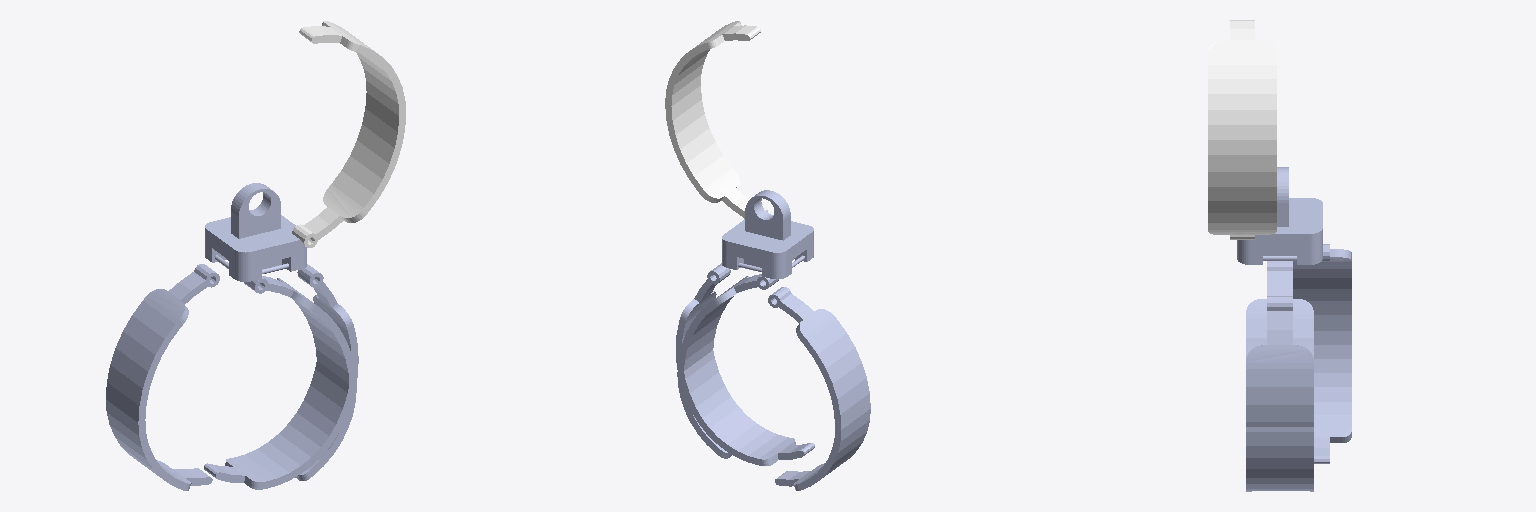
URDF robot description (scoop_claw):
<?xml version="1.0" encoding="utf-8"?>
<!-- This URDF was automatically created by SolidWorks to URDF Exporter! Originally created by [author] ([email redacted]) 
     Commit Version: 1.4.4-24-g24328f6  Build Version: 1.5.7084.36479
     For more information, please see http://wiki.ros.org/sw_urdf_exporter -->
<robot
  name="scoop_claw">
  <link
    name="base_link">
    <inertial>
      <origin
        xyz="2.0425E-16 -0.0065284 1.2422E-16"
        rpy="0 0 0" />
      <mass
        value="0.047623" />
      <inertia
        ixx="1.2295E-05"
        ixy="4.9851E-20"
        ixz="1.034E-21"
        iyy="1.7093E-05"
        iyz="2.4151E-20"
        izz="1.2749E-05" />
    </inertial>
    <visual>
      <origin
        xyz="0 0 0"
        rpy="0 0 0" />
      <geometry>
        <mesh
          filename="package://scoop_claw/meshes/base_link.STL" />
      </geometry>
      <material
        name="">
        <color
          rgba="0.79216 0.81961 0.93333 1" />
      </material>
    </visual>
    <collision>
      <origin
        xyz="0 0 0"
        rpy="0 0 0" />
      <geometry>
        <mesh
          filename="package://scoop_claw/meshes/base_link.STL" />
      </geometry>
    </collision>
  </link>
  <link
    name="F1">
    <inertial>
      <origin
        xyz="0.041044 -0.070958 -3.3131E-09"
        rpy="0 0 0" />
      <mass
        value="0.032796" />
      <inertia
        ixx="6.1528E-05"
        ixy="2.8622E-06"
        ixz="-1.7673E-12"
        iyy="1.1837E-05"
        iyz="1.0847E-11"
        izz="6.5603E-05" />
    </inertial>
    <visual>
      <origin
        xyz="0 0 0"
        rpy="0 0 0" />
      <geometry>
        <mesh
          filename="package://scoop_claw/meshes/F1.STL" />
      </geometry>
      <material
        name="">
        <color
          rgba="0.79216 0.81961 0.93333 1" />
      </material>
    </visual>
    <collision>
      <origin
        xyz="0 0 0"
        rpy="0 0 0" />
      <geometry>
        <mesh
          filename="package://scoop_claw/meshes/F1.STL" />
      </geometry>
    </collision>
  </link>
  <joint
    name="F1J"
    type="continuous">
    <origin
      xyz="0.022 0 -0.017"
      rpy="1.5708 0.27708 0" />
    <parent
      link="base_link" />
    <child
      link="F1" />
    <axis
      xyz="0 0 1" />
    <safety_controller
      k_velocity="0" />
  </joint>
  <link
    name="F2">
    <inertial>
      <origin
        xyz="0.041044 -0.070958 -2.1148E-09"
        rpy="0 0 0" />
      <mass
        value="0.032796" />
      <inertia
        ixx="6.1528E-05"
        ixy="2.8622E-06"
        ixz="-6.6382E-13"
        iyy="1.1837E-05"
        iyz="7.8949E-12"
        izz="6.5603E-05" />
    </inertial>
    <visual>
      <origin
        xyz="0 0 0"
        rpy="0 0 0" />
      <geometry>
        <mesh
          filename="package://scoop_claw/meshes/F2.STL" />
      </geometry>
      <material
        name="">
        <color
          rgba="0.79216 0.81961 0.93333 1" />
      </material>
    </visual>
    <collision>
      <origin
        xyz="0 0 0"
        rpy="0 0 0" />
      <geometry>
        <mesh
          filename="package://scoop_claw/meshes/F2.STL" />
      </geometry>
    </collision>
  </link>
  <joint
    name="F2J"
    type="continuous">
    <origin
      xyz="0 0.022 -0.017"
      rpy="1.5708 0 1.5708" />
    <parent
      link="base_link" />
    <child
      link="F2" />
    <axis
      xyz="1 0 0" />
    <safety_controller
      k_velocity="0" />
  </joint>
  <link
    name="F3">
    <inertial>
      <origin
        xyz="0.041044 -0.070958 -2.2194E-09"
        rpy="0 0 0" />
      <mass
        value="0.032796" />
      <inertia
        ixx="6.1528E-05"
        ixy="2.8622E-06"
        ixz="-7.4641E-13"
        iyy="1.1837E-05"
        iyz="8.0853E-12"
        izz="6.5603E-05" />
    </inertial>
    <visual>
      <origin
        xyz="0 0 0"
        rpy="0 0 0" />
      <geometry>
        <mesh
          filename="package://scoop_claw/meshes/F3.STL" />
      </geometry>
      <material
        name="">
        <color
          rgba="0.79216 0.81961 0.93333 1" />
      </material>
    </visual>
    <collision>
      <origin
        xyz="0 0 0"
        rpy="0 0 0" />
      <geometry>
        <mesh
          filename="package://scoop_claw/meshes/F3.STL" />
      </geometry>
    </collision>
  </link>
  <joint
    name="F3J"
    type="continuous">
    <origin
      xyz="-0.022 0 -0.017"
      rpy="1.5708 -0.01686 3.1416" />
    <parent
      link="base_link" />
    <child
      link="F3" />
    <axis
      xyz="0 0 1" />
    <safety_controller
      k_velocity="0" />
  </joint>
  <link
    name="F4">
    <inertial>
      <origin
        xyz="0 0 0"
        rpy="0 0 0" />
      <mass
        value="0" />
      <inertia
        ixx="0"
        ixy="0"
        ixz="0"
        iyy="0"
        iyz="0"
        izz="0" />
    </inertial>
    <visual>
      <origin
        xyz="0 0 0"
        rpy="0 0 0" />
      <geometry>
        <mesh
          filename="package://scoop_claw/meshes/F4.STL" />
      </geometry>
      <material
        name="">
        <color
          rgba="1 1 1 1" />
      </material>
    </visual>
    <collision>
      <origin
        xyz="0 0 0"
        rpy="0 0 0" />
      <geometry>
        <mesh
          filename="package://scoop_claw/meshes/F4.STL" />
      </geometry>
    </collision>
  </link>
  <joint
    name="F4J"
    type="continuous">
    <origin
      xyz="0 -0.022 -0.017"
      rpy="-1.5708 0 -1.5708" />
    <parent
      link="base_link" />
    <child
      link="F4" />
    <axis
      xyz="1 0 0" />
    <safety_controller
      k_velocity="0" />
  </joint>
</robot>

--- Facts derived from the render (not from the file) ---
The picture shows the robot from 3 angles, left to right: view 1: azimuth 30°, elevation 25°; view 2: azimuth 150°, elevation 25°; view 3: azimuth 270°, elevation 25°; orthographic projection.
Model scoop_claw with 5 links and 4 joints (4 continuous), rooted at base_link, posed every joint at zero.
Visible links, largest first — view 1: F2, F4, F1, base_link, F3; view 2: F2, F4, F1, base_link, F3; view 3: F4, F2, F3, F1, base_link.
Link boxes in pixels (left/top/right/bottom): F2: left=106, top=264, right=219, bottom=490; F4: left=292, top=21, right=405, bottom=247; F1: left=204, top=264, right=358, bottom=489; base_link: left=205, top=183, right=306, bottom=281; F3: left=244, top=276, right=356, bottom=480; F2: left=768, top=287, right=870, bottom=490; F4: left=665, top=21, right=767, bottom=218; F1: left=676, top=263, right=814, bottom=465; base_link: left=722, top=190, right=813, bottom=279; F3: left=677, top=274, right=778, bottom=458; F4: left=1208, top=20, right=1276, bottom=239; F2: left=1293, top=244, right=1351, bottom=463; F3: left=1246, top=261, right=1313, bottom=491; F1: left=1246, top=296, right=1313, bottom=426; base_link: left=1237, top=167, right=1322, bottom=264.
Size in the robot's own frame: 0.164 by 0.084 by 0.3092 metres.
Meshes: 5 distinct files referenced, 5 mesh visuals loaded (5 binary STL).